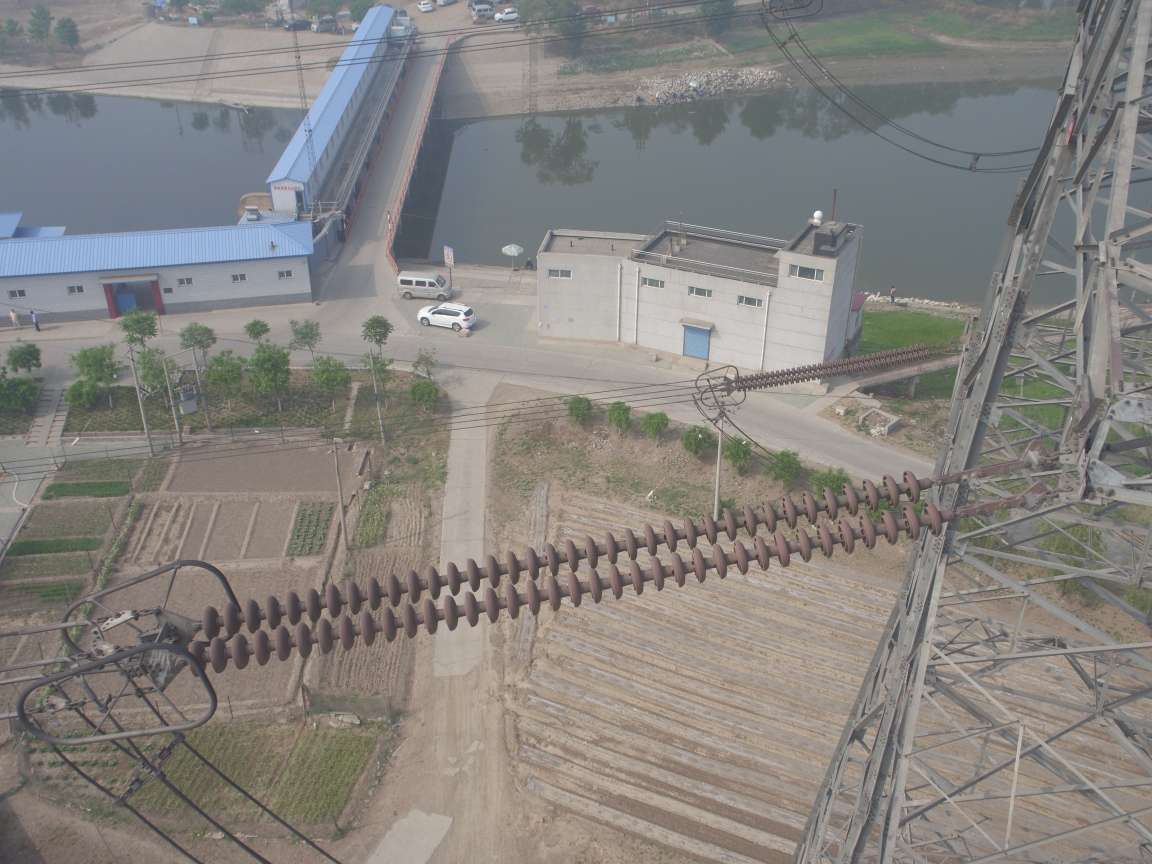insulator: (176, 466, 989, 676), (732, 341, 939, 391)
